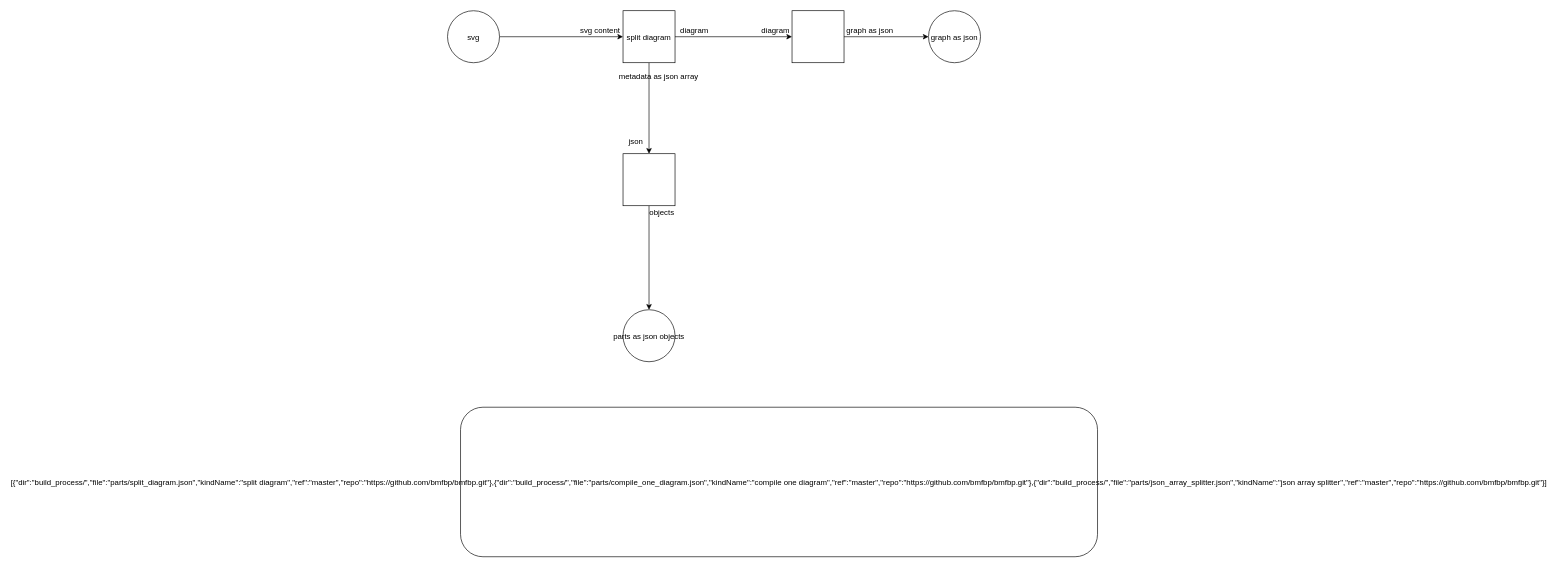
The diagram is 1557 pixels wide and 567 high, and some of its shapes have lost their labels. Here are the shapes that lost their labels. From the top down, the centre of each, then its label:
At point 817,36: "compile one diagram".
At point 648,179: "json array splitter".
